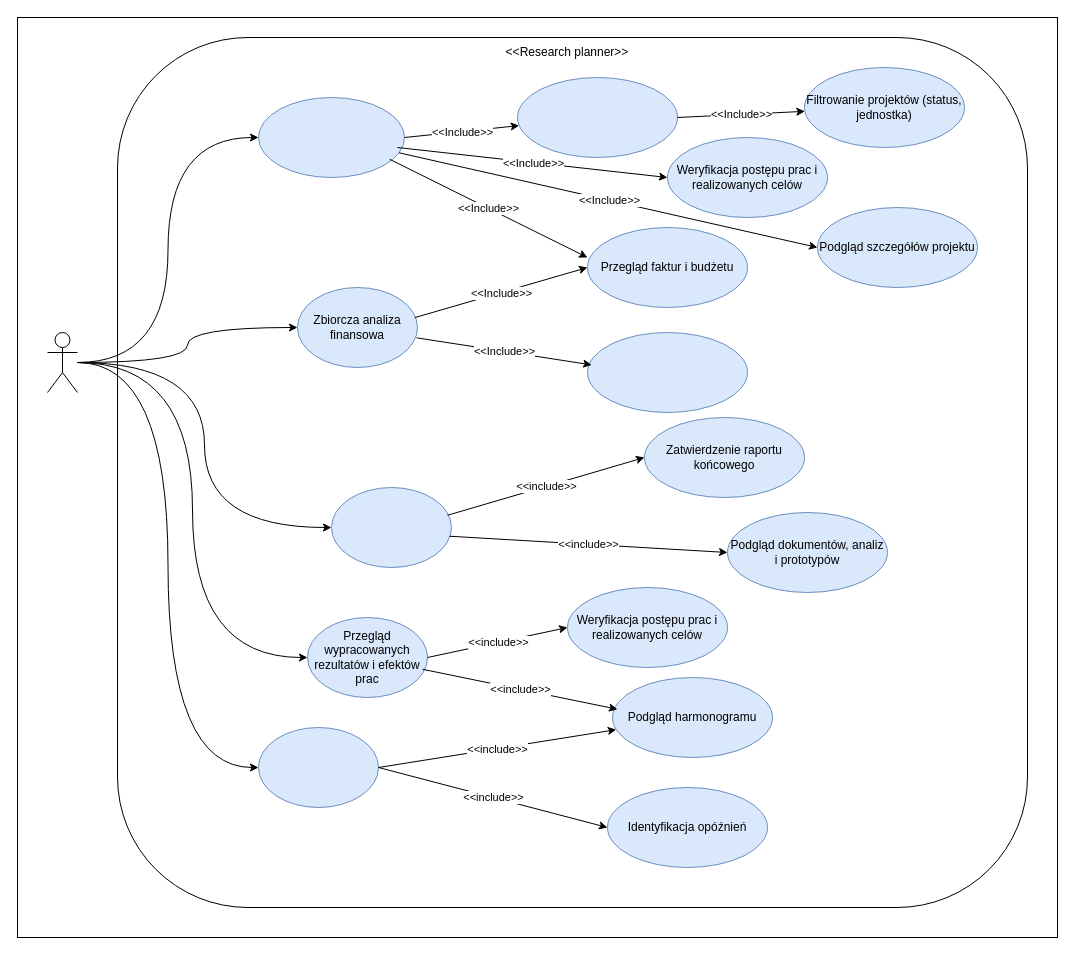
This 1075x955 diagram has some shape labels left out. Each missing label, with the centre of its shape:
Akceptacja kamieni milowych i raportów końcowych: pixel 391 527
Generowanie raportu finansowego: pixel 667 372
Monitoring harmonogramu i weryfikacja terminowości: pixel 318 767
Nadzór nad projektem: pixel 331 137
Opiekun: pixel 62 362
Wyszukanie projektu: pixel 597 117
